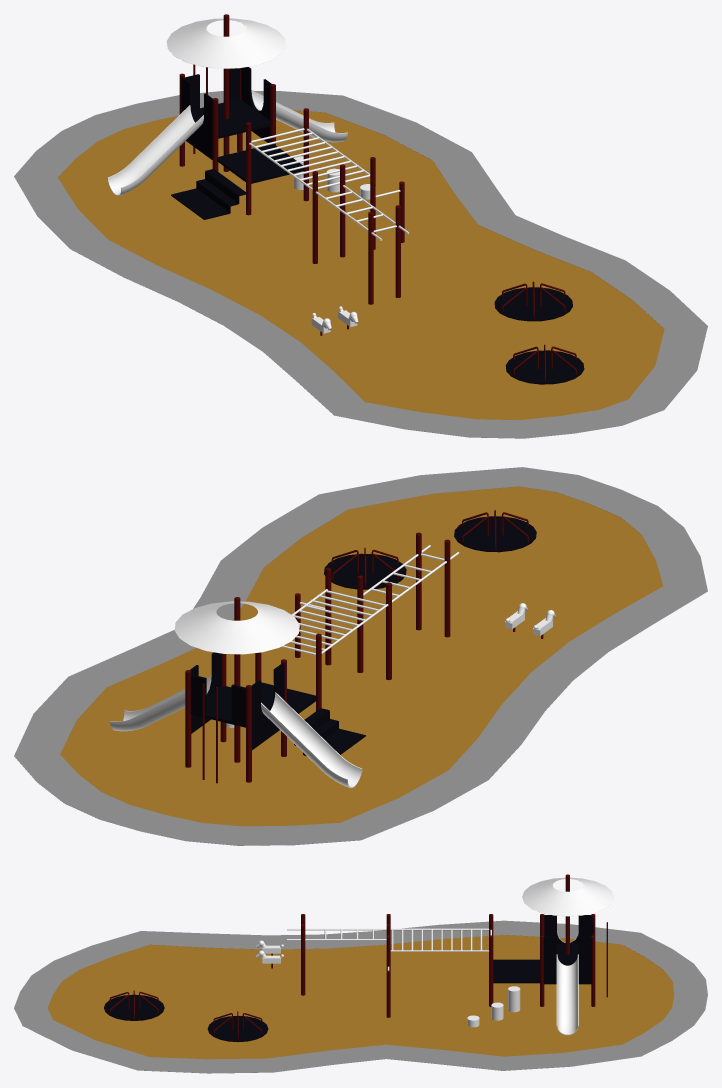
Rendered from Playground_test.FBX.
3 renders of one model, top to bottom at view 1: azimuth 30°, elevation 25°; view 2: azimuth 150°, elevation 25°; view 3: azimuth 270°, elevation 25°, orthographic. The views are drawn at different scales.
Parts seen in each view (by area): view 1: Plane001; view 2: Plane001; view 3: Plane001.
Boxes of the visible parts, x1,y1,x2,y2 form: Plane001: (14, 14, 707, 438); Plane001: (14, 467, 707, 845); Plane001: (14, 874, 707, 1073).
Size of the model in its own units: 1291 by 478 by 2479.
